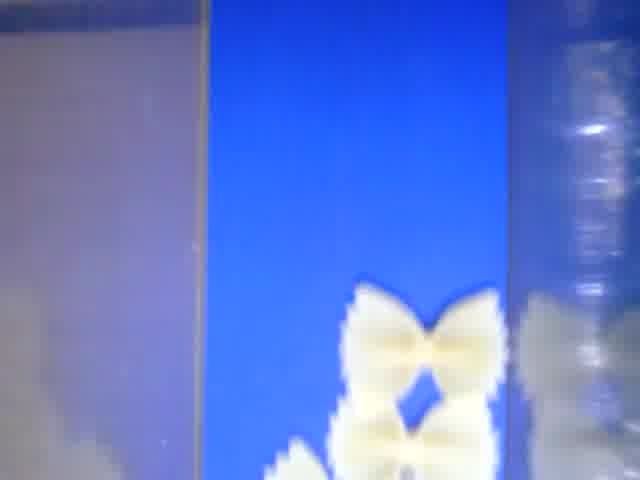farfalle: (337, 279, 508, 408), (327, 388, 498, 480), (263, 435, 327, 480)
